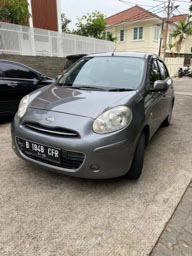plat: (24, 139, 61, 164)
